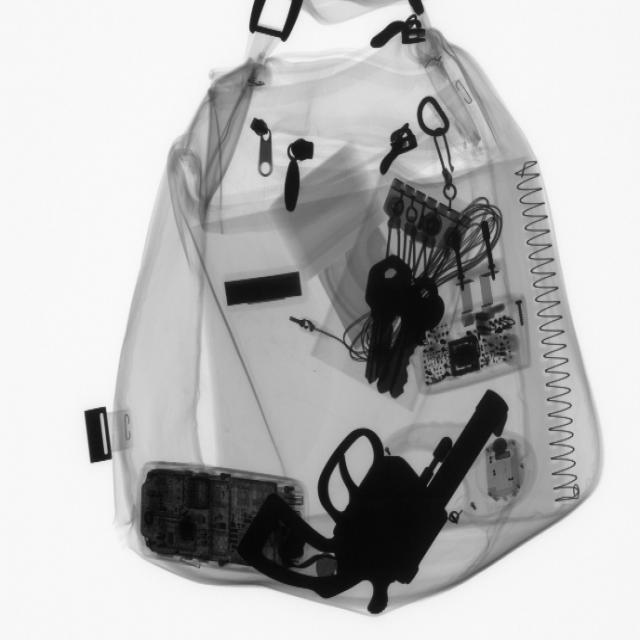GUN: (236, 374, 511, 619)
